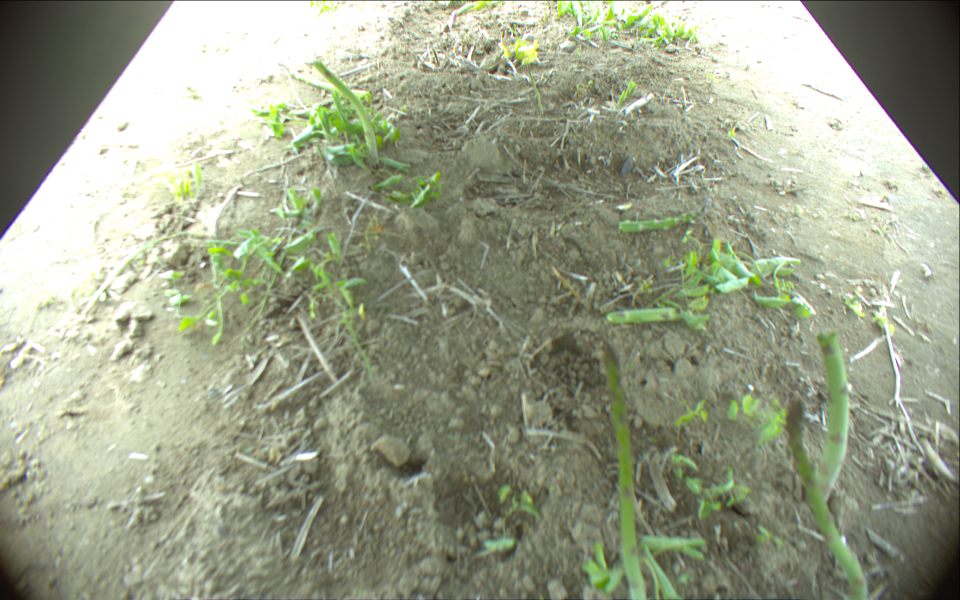aspa: (784, 397, 870, 600), (602, 340, 649, 600), (76, 230, 210, 316), (315, 59, 381, 169), (814, 330, 850, 503), (274, 56, 370, 100), (620, 213, 692, 234), (605, 309, 683, 323)
